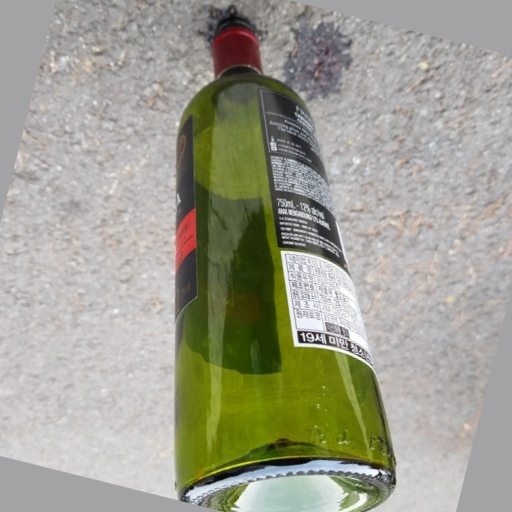Glass_2: (170, 13, 400, 512)
